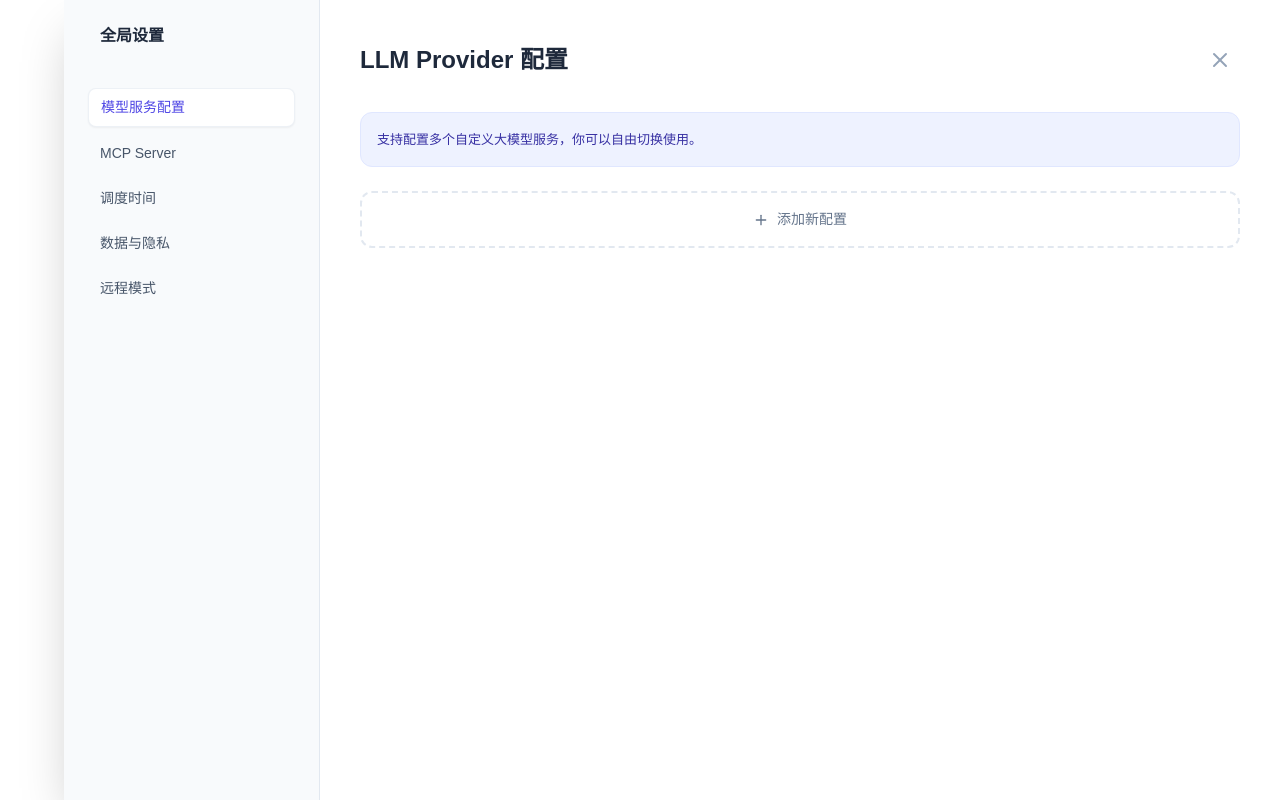
Test: 远程桌面 UI 门控（Story 16.3） › GlobalSettingsModal 门控点 › 远程桌面：数据 tab 的导出/导入区隐藏（desktop-only）+ 销毁区保留（web-ok）
Click the button "数据与隐私" at (192, 244), box [88,225,295,262]
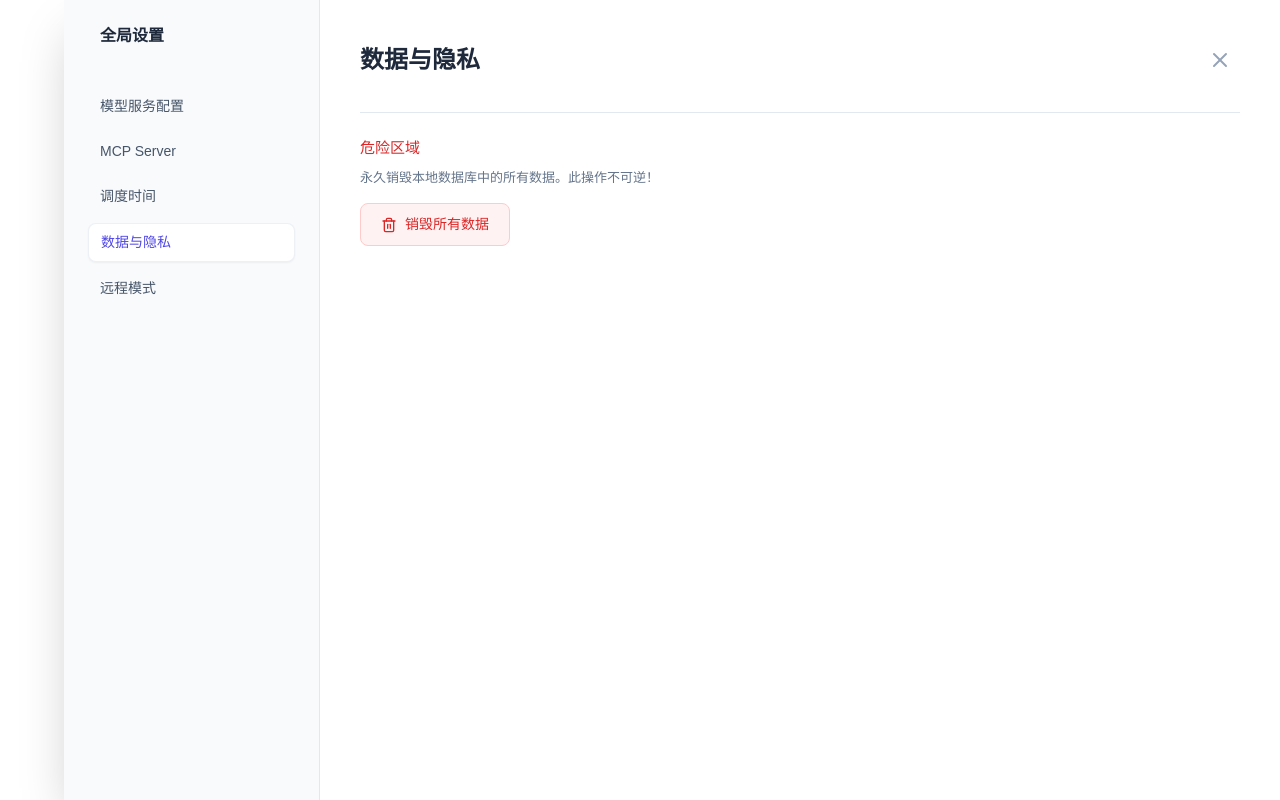
Expected: the button "销毁所有数据" is shown, [360,203,510,246]
